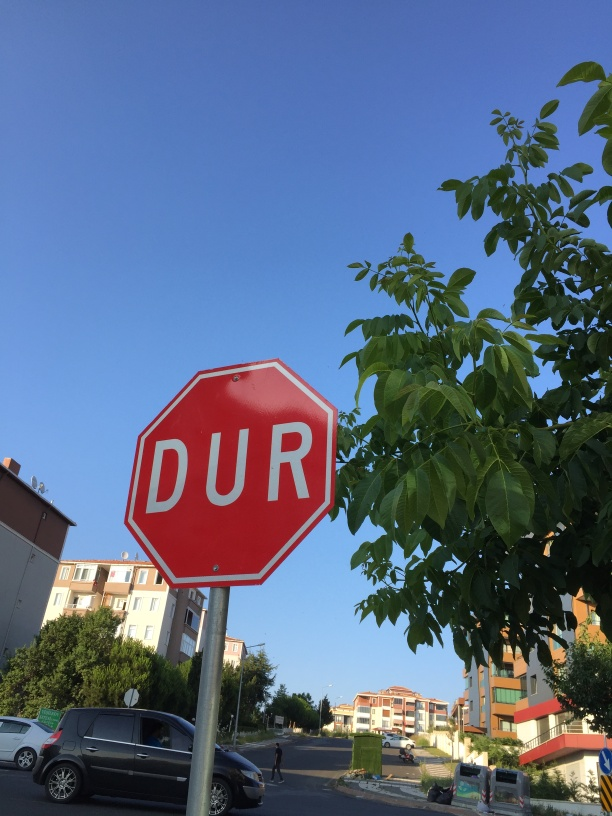arac_dur_isareti: (107, 255, 352, 702)
